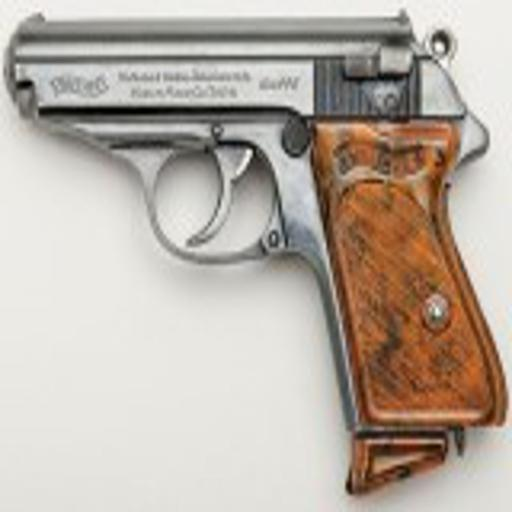Handgun: (5, 11, 511, 489)
